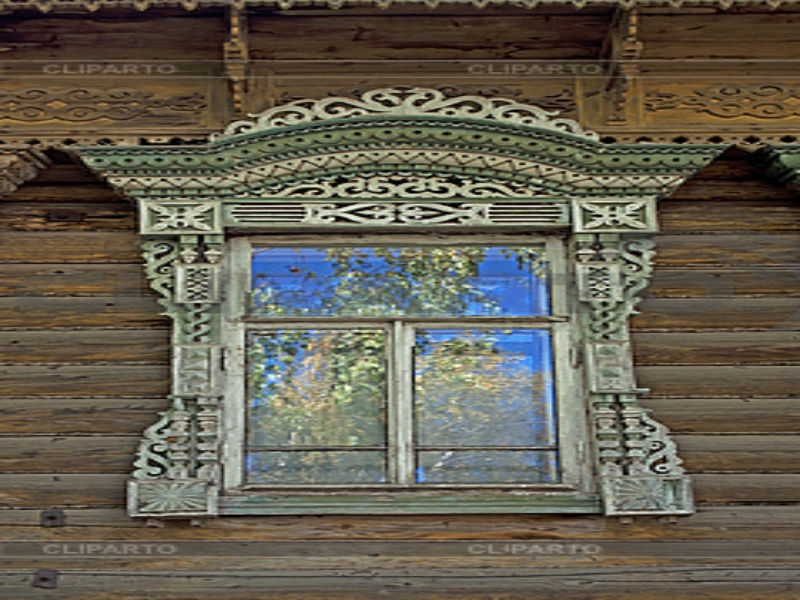window: (225, 231, 583, 506)
